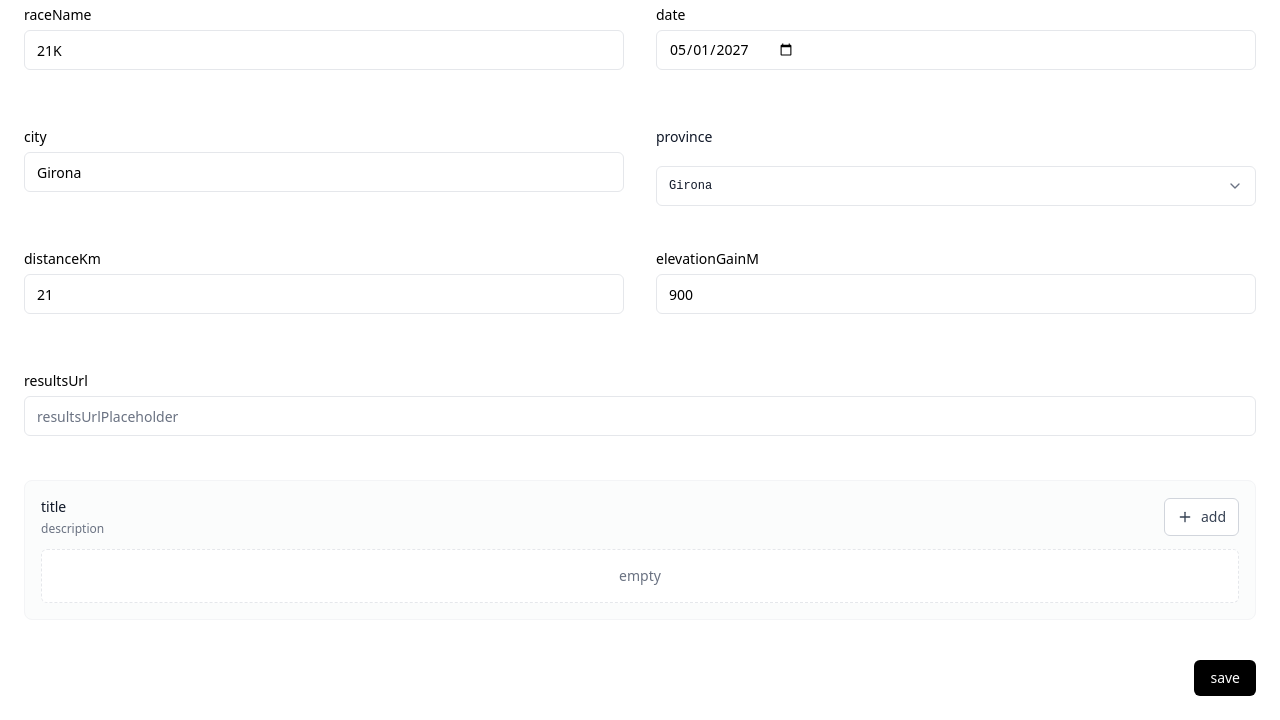
Test case: EventForm results URLs › shows the field to organizers editing a saved race and uses custom validation
The width and height of the screenshot is (1280, 720).
(page scrolled)
Type "ftp://example.com/results" into the field with placeholder "resultsUrlPlaceholder".
click(640, 416); type("ftp://example.com/results")  # box [24,396,1256,436]
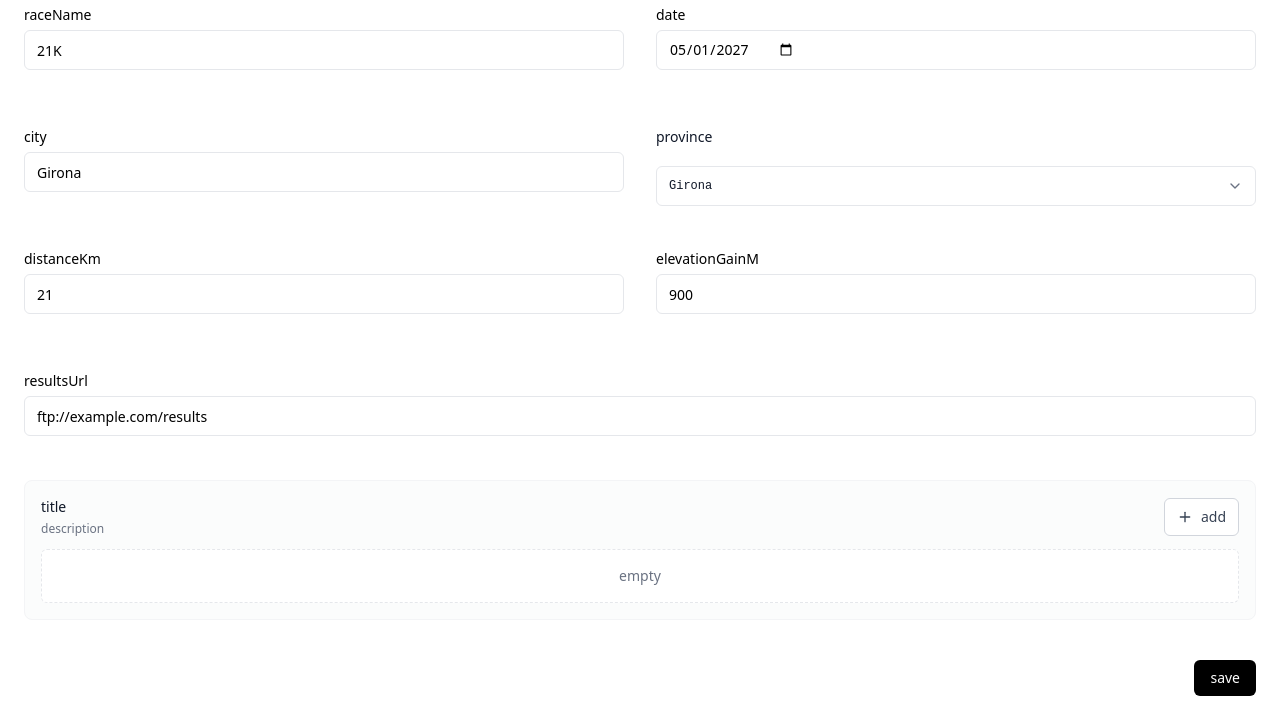
Click the button "save".
click(1225, 678)  # box [1194,660,1256,696]
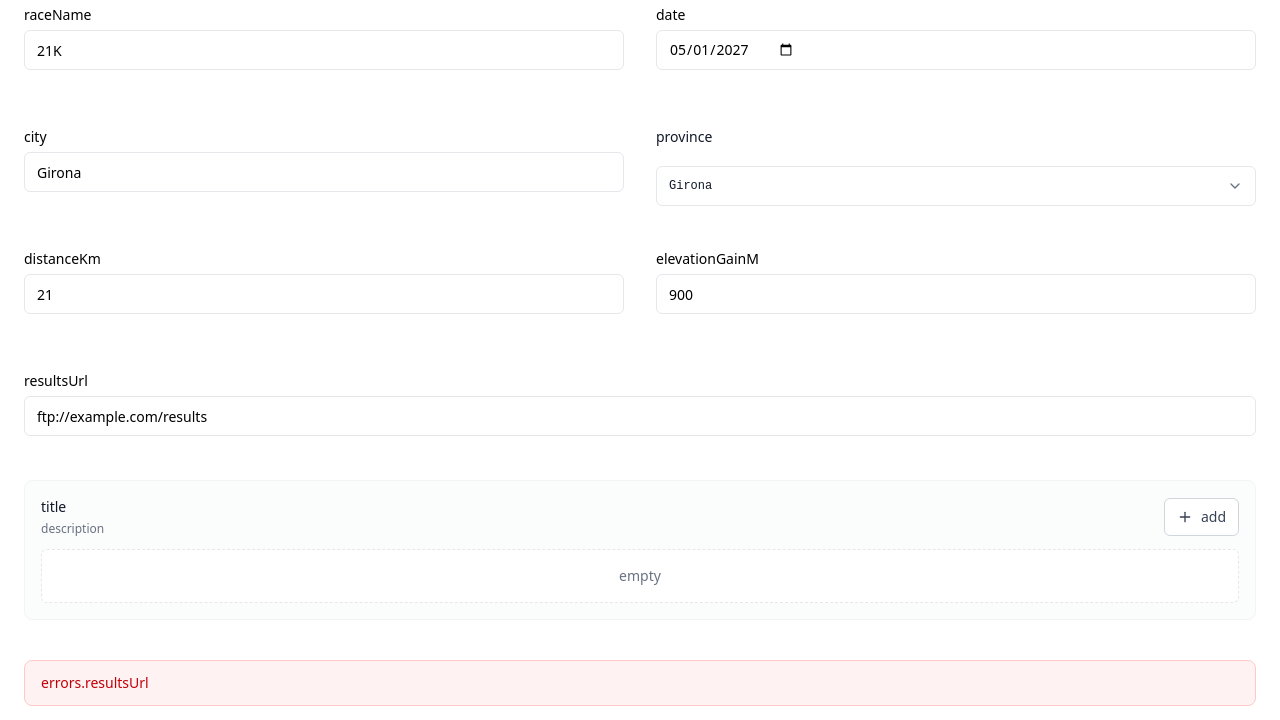
Expected: the text "errors.resultsUrl" is shown, [24,660,1256,706]
